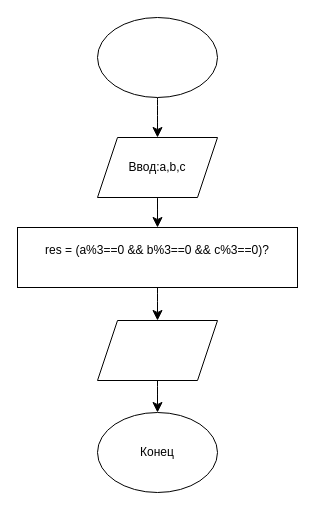
The diagram is 315 pixels wide and 510 high, and some of its shapes have lost their labels. The centre of each missing label's shape, as x and y in pixels:
"Вывод a, b, c" goes at point (157, 350).
"Начало" goes at point (157, 57).
